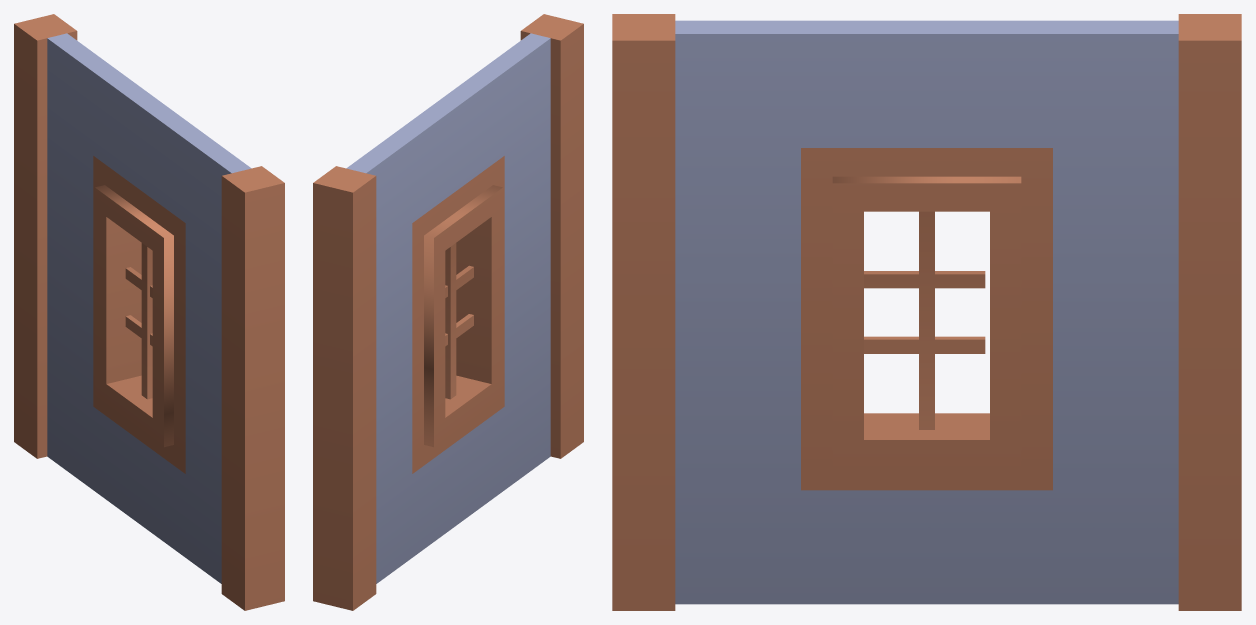
The model's file is wall-window-glass.obj.
The picture shows the model from 3 angles, left to right: view 1: azimuth 30°, elevation 25°; view 2: azimuth 150°, elevation 25°; view 3: azimuth 270°, elevation 25°; orthographic projection. The views are drawn at different scales.
Parts seen in each view (by area): view 1: wall-window-glass; view 2: wall-window-glass; view 3: wall-window-glass.
Part boxes in pixels (left/top/right/bottom): wall-window-glass: left=14, top=14, right=284, bottom=610; wall-window-glass: left=313, top=14, right=583, bottom=610; wall-window-glass: left=612, top=14, right=1241, bottom=610.
Size of the model in its own units: 0.1 by 1 by 1.
Materials: 1 (1 with a texture image).
